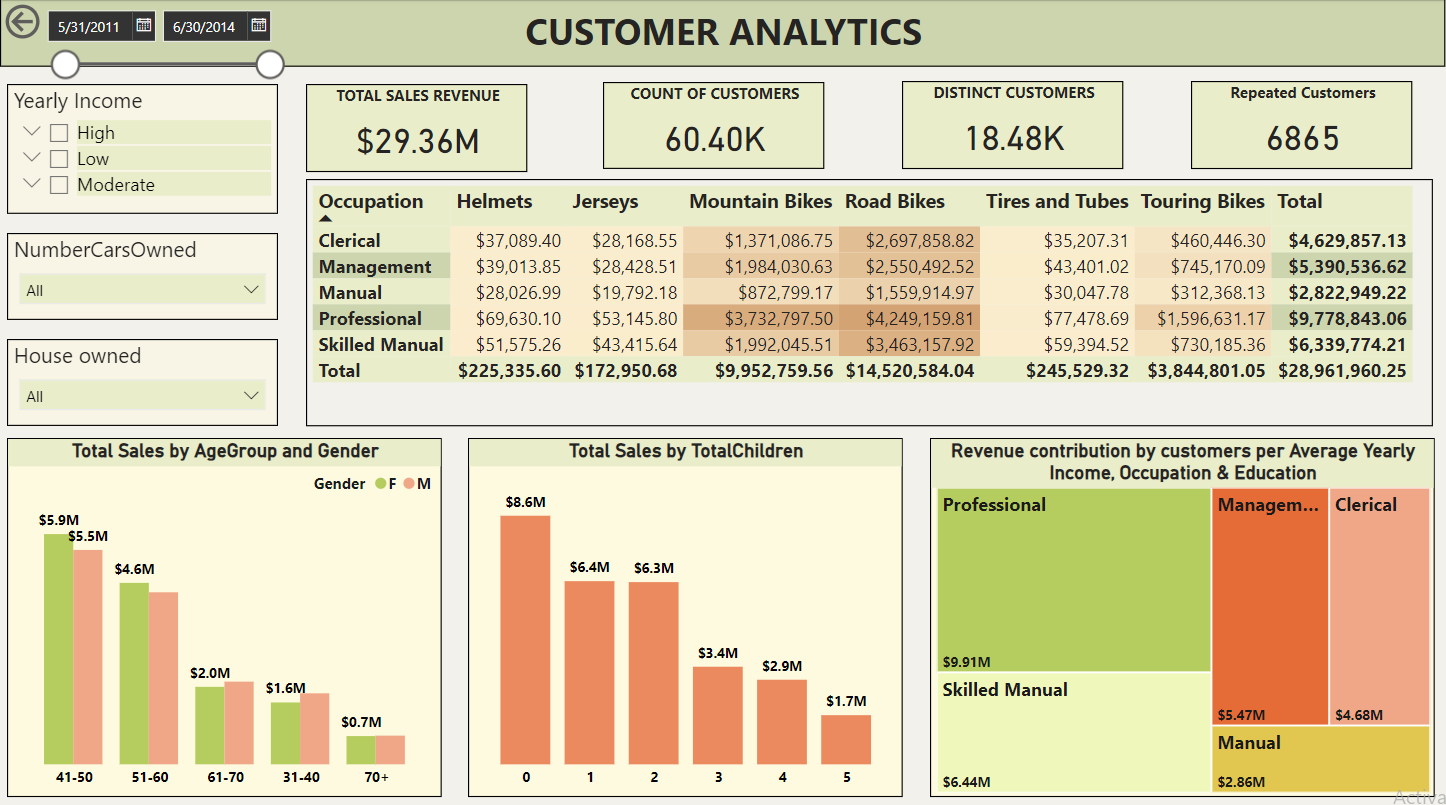

The dashboard page shown, as its layout file describes it:
{"tool":"powerbi","page":{"name":"CUSTOMER ANALYTICS","canvas":[1280,720],"ordinal":1},"visuals":[{"type":"textbox","box":[0,0,1280,60.4],"z":0},{"type":"card","title":"TOTAL SALES REVENUE","fields":{"Values":["Table.Total Sales"]},"box":[271.4,74.9,196.5,78],"z":1000},{"type":"slicer","fields":{"Values":["Calendar.Date"]},"box":[29.4,0,230.9,94.2],"z":2000},{"type":"actionButton","box":[0,0,100,40],"z":3000},{"type":"slicer","title":"Yearly Income","fields":{"Values":["Sales vPersonDemographics.IncomeGroup","Sales vPersonDemographics.YearlyIncome"]},"box":[6.1,74.9,240,115.4],"z":4000},{"type":"card","title":"DISTINCT CUSTOMERS","fields":{"Values":["Count(Fact_Sales.CustomerID)"]},"box":[799,72.9,196.5,78],"z":5000},{"type":"card","title":"Repeated Customers","fields":{"Values":["_Measure.Repeated Customers"]},"box":[1055.2,72.9,196.5,78],"z":6000},{"type":"card","title":"COUNT OF CUSTOMERS","fields":{"Values":["CountNonNull(Fact_Sales.CustomerID)"]},"box":[533.7,73.9,196.5,77],"z":7000},{"type":"pivotTable","fields":{"Rows":["Sales vPersonDemographics.Occupation"],"Columns":["SubCate.SubcategoryName"],"Values":["_Measure.Total Sales"]},"box":[271.4,159,998.5,218.7],"z":8000},{"type":"slicer","title":"NumberCarsOwned","fields":{"Values":["Sales vPersonDemographics.NumberCarsOwned"]},"box":[6.1,207.6,240,77],"z":9000},{"type":"slicer","title":"House owned","fields":{"Values":["Sales vPersonDemographics.HomeOwnerFlag"]},"box":[6.1,300.8,240,77],"z":10000},{"type":"treemap","title":"Revenue contribution by customers per Average Yearly Income, Occupation & Education","fields":{"Group":["Sales vPersonDemographics.Occupation","Sales vPersonDemographics.Education"],"Values":["_Measure.Total Sales"]},"box":[823.3,388.9,446.6,318],"z":11000},{"type":"clusteredColumnChart","fields":{"Category":["Sales vPersonDemographics.AgeGroup"],"Y":["_Measure.Total Sales"],"Series":["Sales vPersonDemographics.Gender"]},"box":[6.1,388.9,384.8,318],"z":12000},{"type":"columnChart","fields":{"Y":["_Measure.Total Sales"],"Category":["Sales vPersonDemographics.TotalChildren"]},"box":[414.2,388.9,384.8,318],"z":13000}]}

Visuals, with their boxes in screenshot pixels (x1, y1, x2, y2):
textbox: bbox(0, 0, 1445, 62)
"TOTAL SALES REVENUE" card: bbox(303, 78, 528, 167)
slicer - Calendar.Date: bbox(26, 0, 290, 100)
actionButton: bbox(0, 0, 107, 38)
"Yearly Income" slicer: bbox(0, 78, 274, 210)
"DISTINCT CUSTOMERS" card: bbox(907, 76, 1132, 165)
"Repeated Customers" card: bbox(1200, 76, 1425, 165)
"COUNT OF CUSTOMERS" card: bbox(603, 77, 828, 165)
pivotTable - Sales vPersonDemographics.Occupation x SubCate.SubcategoryName: bbox(303, 174, 1445, 425)
"NumberCarsOwned" slicer: bbox(0, 230, 274, 318)
"House owned" slicer: bbox(0, 337, 274, 425)
"Revenue contribution by customers per Average Yearly Income, Occupation & Education" treemap: bbox(935, 437, 1445, 801)
clusteredColumnChart - Sales vPersonDemographics.AgeGroup x _Measure.Total Sales: bbox(0, 437, 440, 801)
columnChart - _Measure.Total Sales x Sales vPersonDemographics.TotalChildren: bbox(466, 437, 907, 801)
